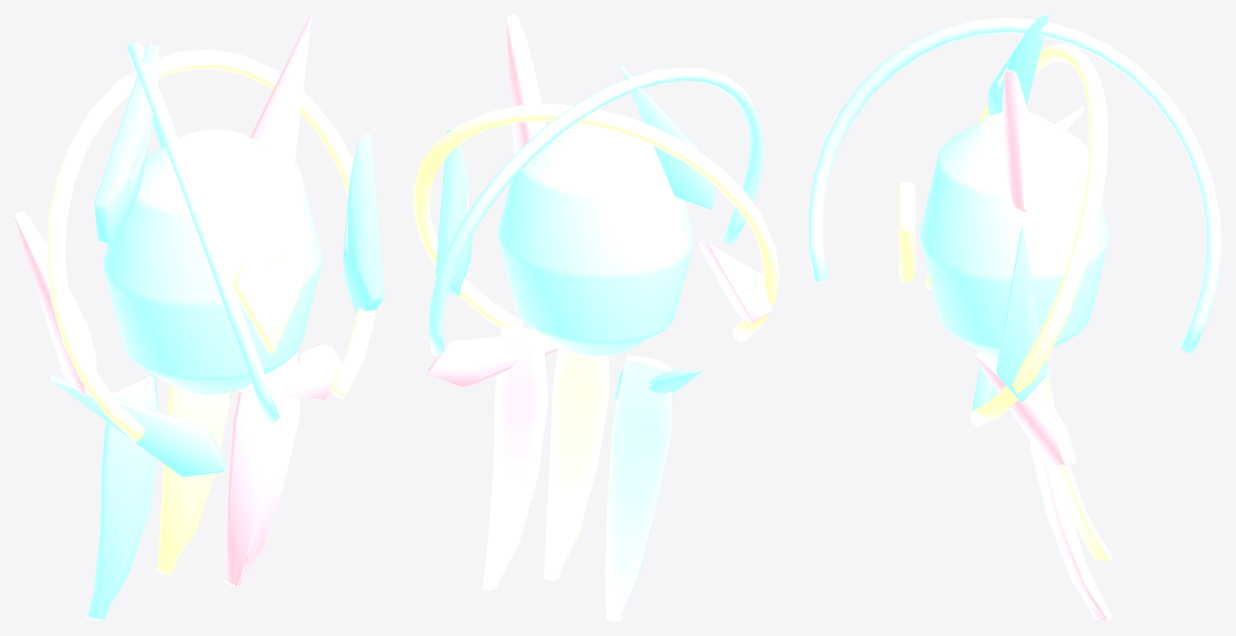
The model's file is aether-wisp-authored-v4.glb.
The picture shows the model from 3 angles, left to right: view 1: azimuth 30°, elevation 25°; view 2: azimuth 150°, elevation 25°; view 3: azimuth 270°, elevation 25°; orthographic projection. The views are drawn at different scales.
Visible parts, largest first — view 1: GB_CORE_WispCore, GB_CORE_WispHeart, GB_DETAIL_WispPetal1, GB_CORE_WispPetal0; view 2: GB_CORE_WispCore, GB_CORE_WispHeart, GB_DETAIL_WispPetal1, GB_CORE_WispPetal0; view 3: GB_CORE_WispCore, GB_CORE_WispHeart, GB_DETAIL_WispPetal1, GB_CORE_WispPetal0.
Boxes of the visible parts, x1,y1,x2,y2 form: GB_CORE_WispCore: [85, 41, 322, 621]; GB_CORE_WispHeart: [46, 49, 375, 575]; GB_DETAIL_WispPetal1: [14, 14, 342, 587]; GB_CORE_WispPetal0: [49, 44, 384, 477]; GB_CORE_WispCore: [428, 67, 763, 621]; GB_CORE_WispHeart: [413, 103, 779, 580]; GB_DETAIL_WispPetal1: [428, 14, 771, 590]; GB_CORE_WispPetal0: [435, 63, 715, 400]; GB_CORE_WispCore: [808, 17, 1221, 554]; GB_CORE_WispHeart: [899, 43, 1112, 561]; GB_DETAIL_WispPetal1: [974, 69, 1112, 621]; GB_CORE_WispPetal0: [972, 14, 1049, 410].
Size of the model in its own units: 1.08 by 1.72 by 1.15.
